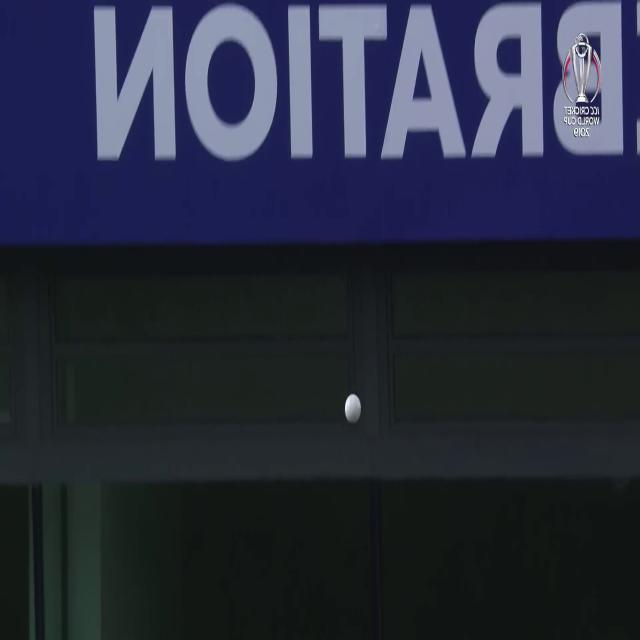ball: (340, 390, 365, 430)
